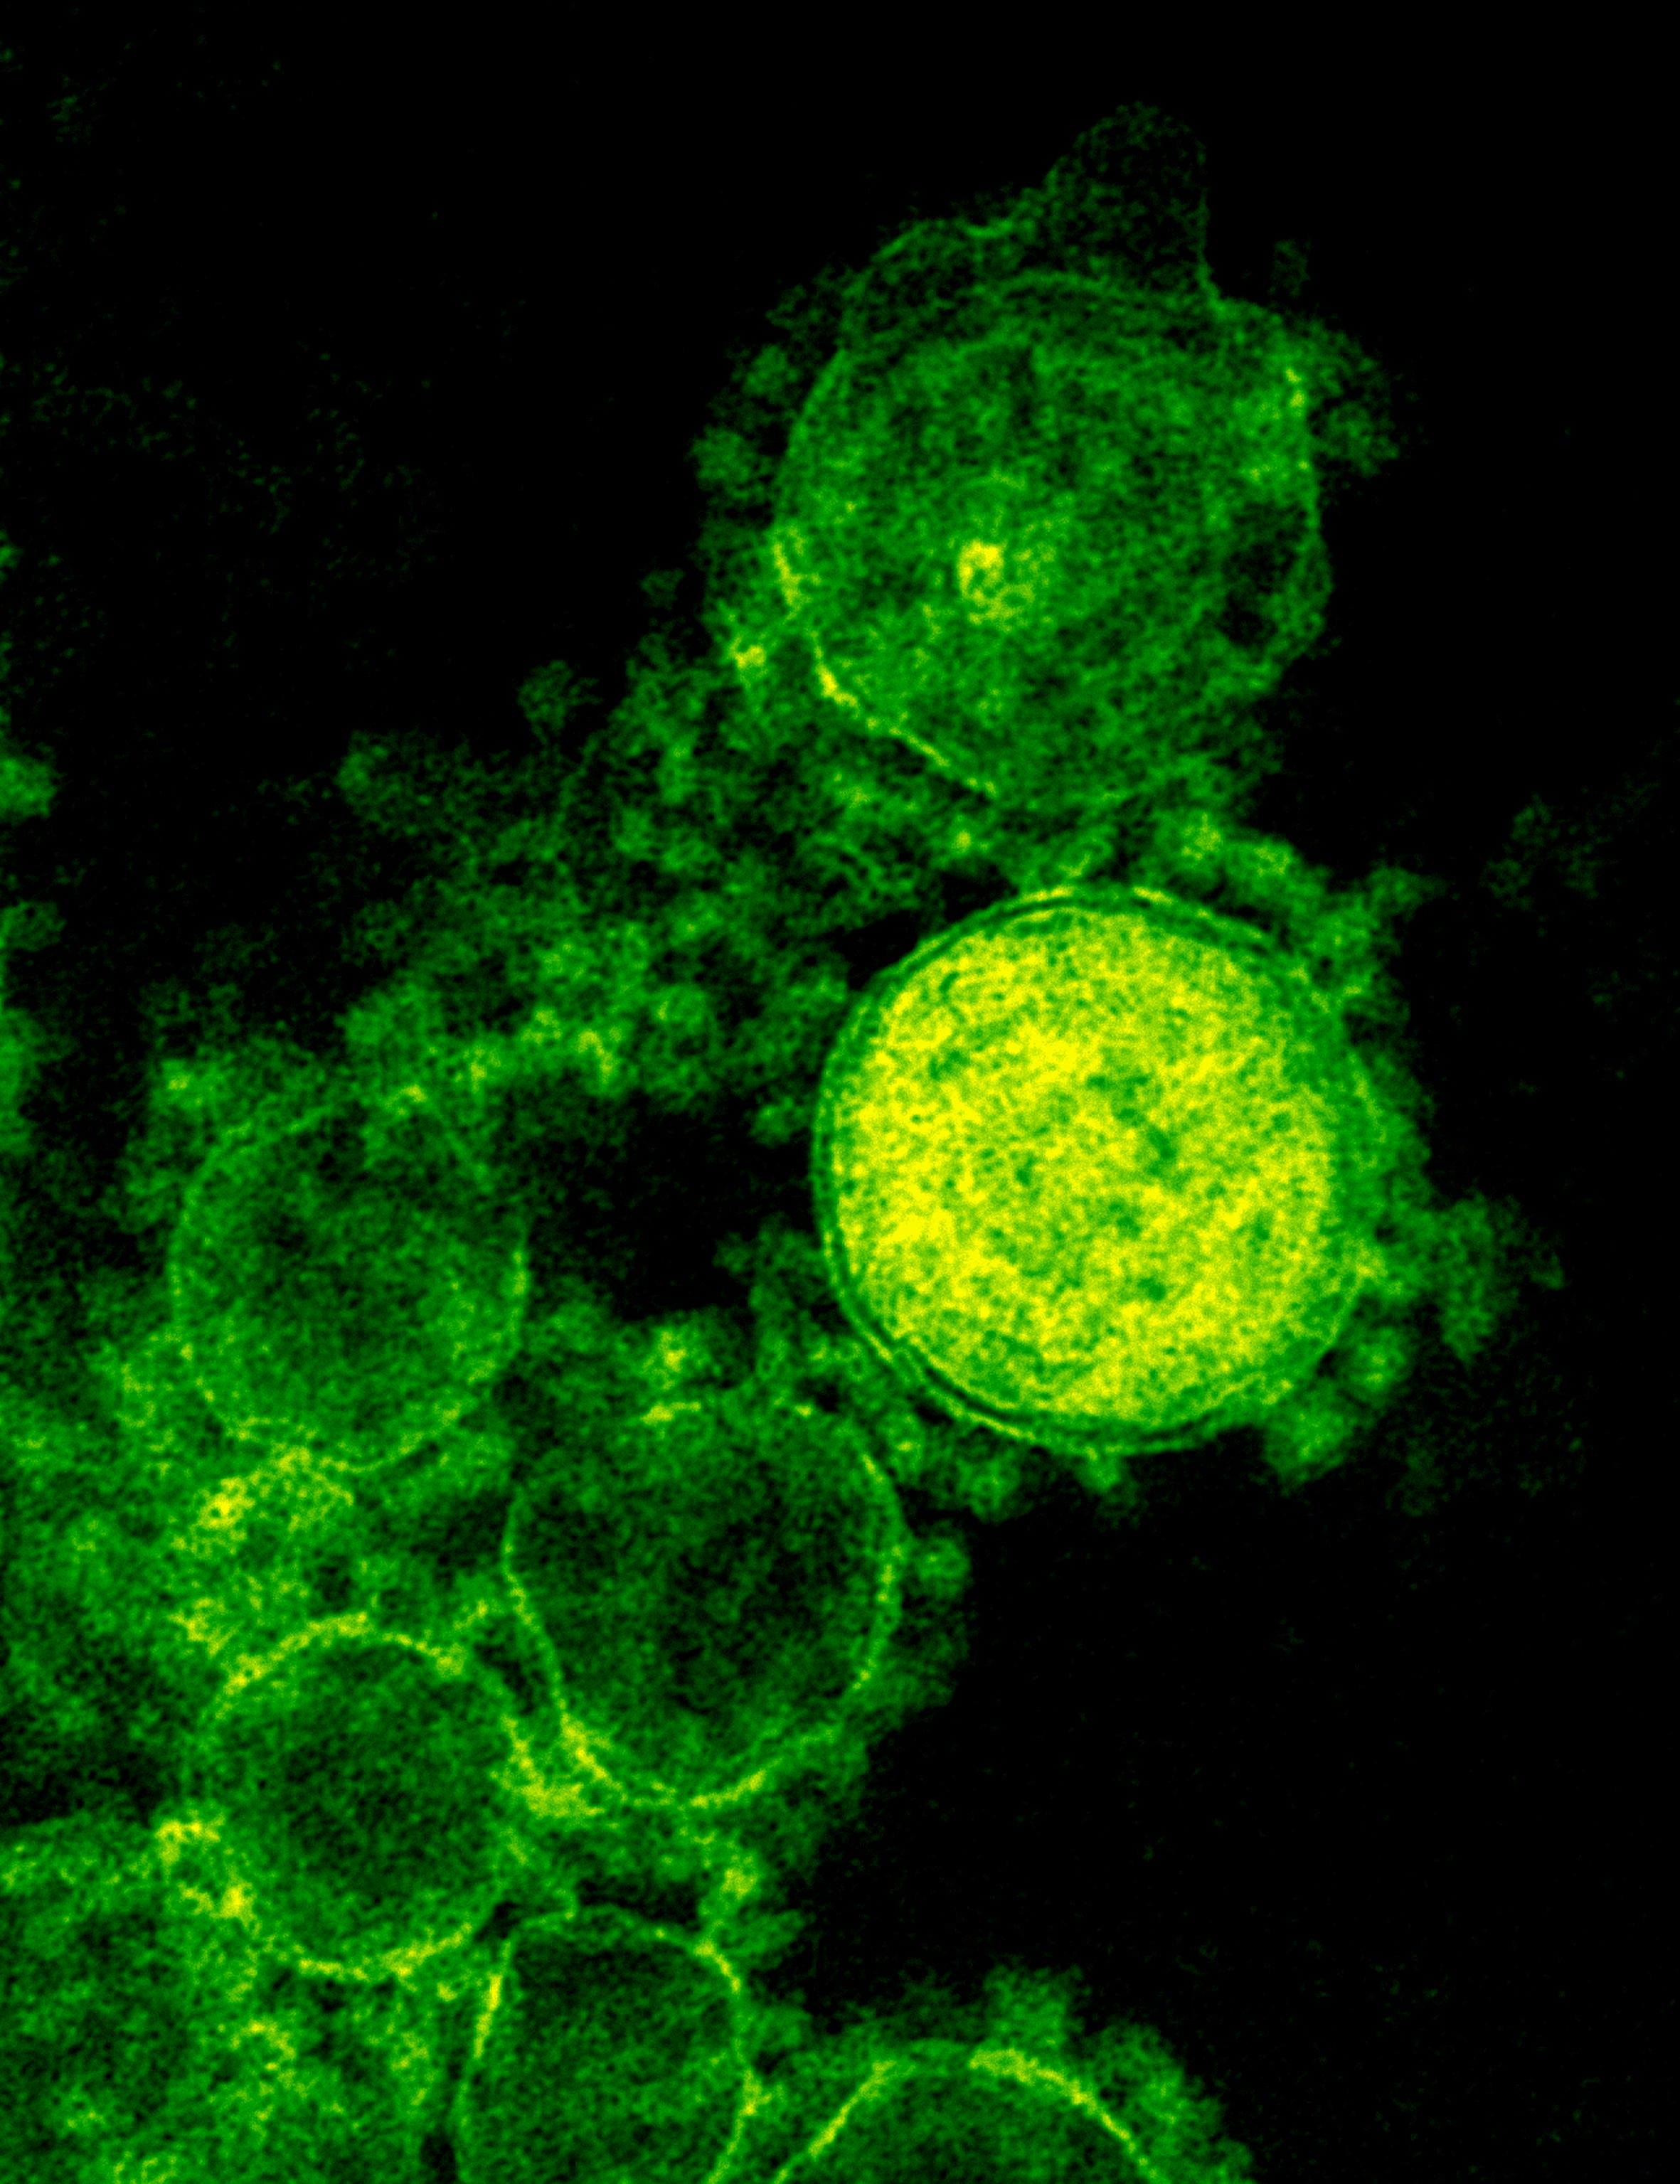COVID19: (67, 937, 1036, 1881), (669, 785, 1609, 1556), (715, 141, 1417, 857)
